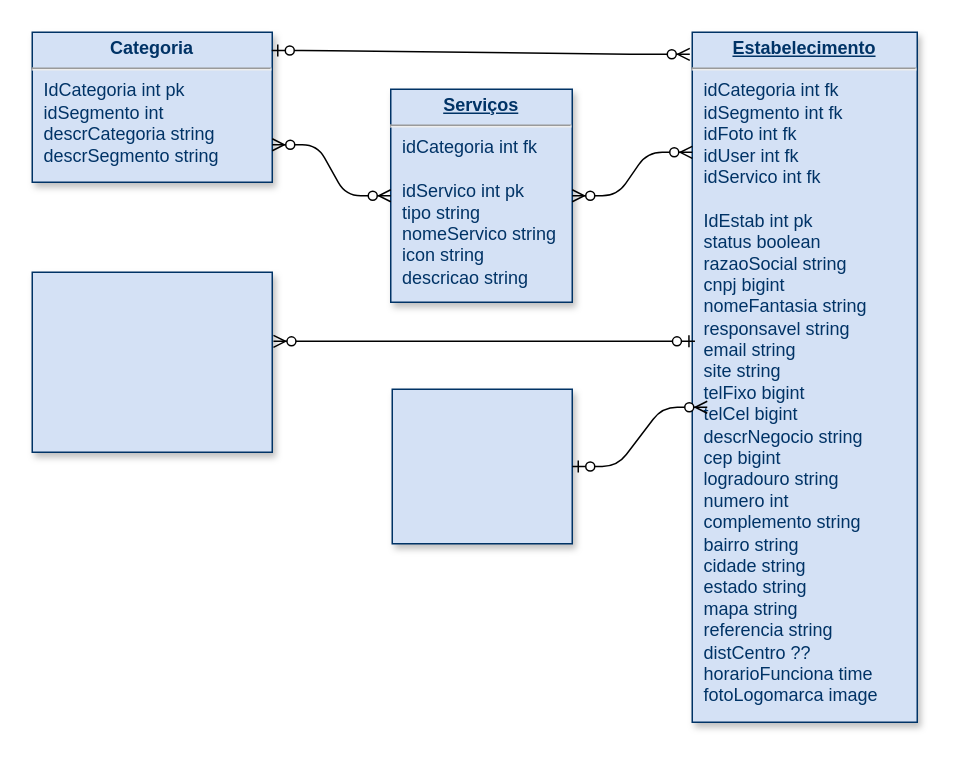
This 953x759 diagram has some shape labels left out. The shapes that lost their labels are listed below. From the top down, each one's centre as x and y in pixels, then its label:
the point at 153,364: Fotos idEstab int fk idFoto int pk urlFoto string descrFoto string
the point at 483,468: User (Login) IdUser int pk nome string email string senha string
